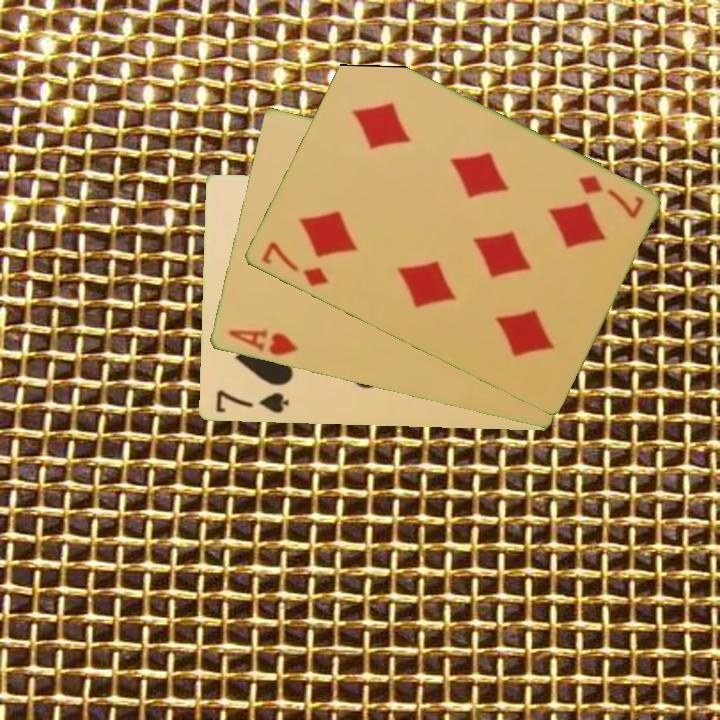7d: (257, 238, 331, 290), (573, 171, 646, 222)
7s: (212, 387, 291, 417)
Ah: (225, 326, 301, 360)
